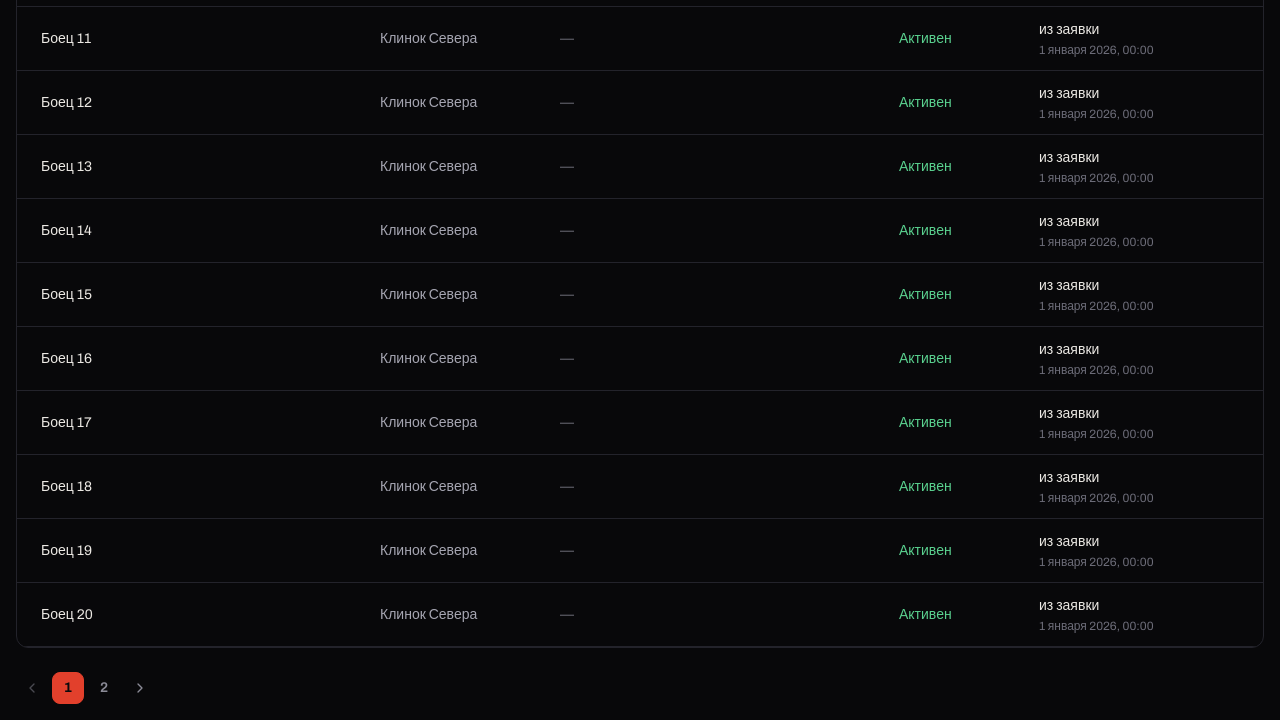
it: FightersScreen › resets pagination to page 1 when a filter changes, re-requesting the server (AC-17)
(page scrolled)
Click the button "2": [104, 688] box x1=88 y1=672 x2=120 y2=704
(page scrolled)
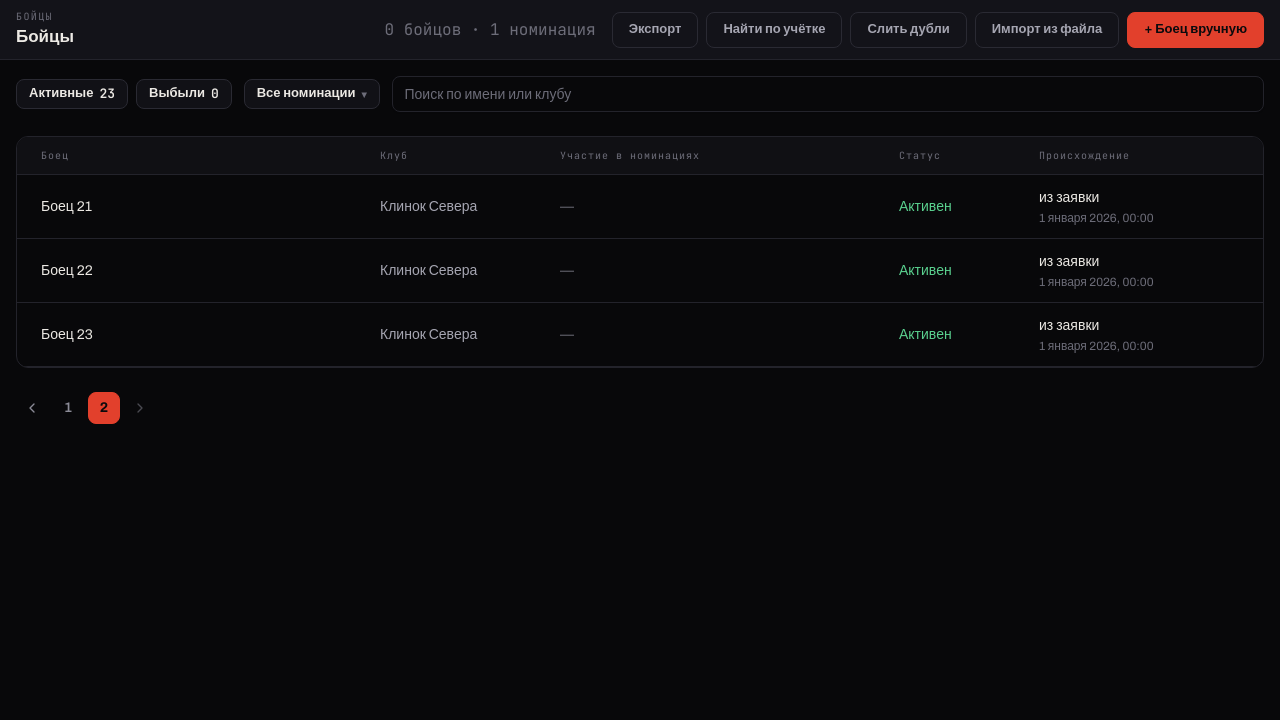
Click the button "Активные 23": [72, 94] box x1=16 y1=79 x2=128 y2=109
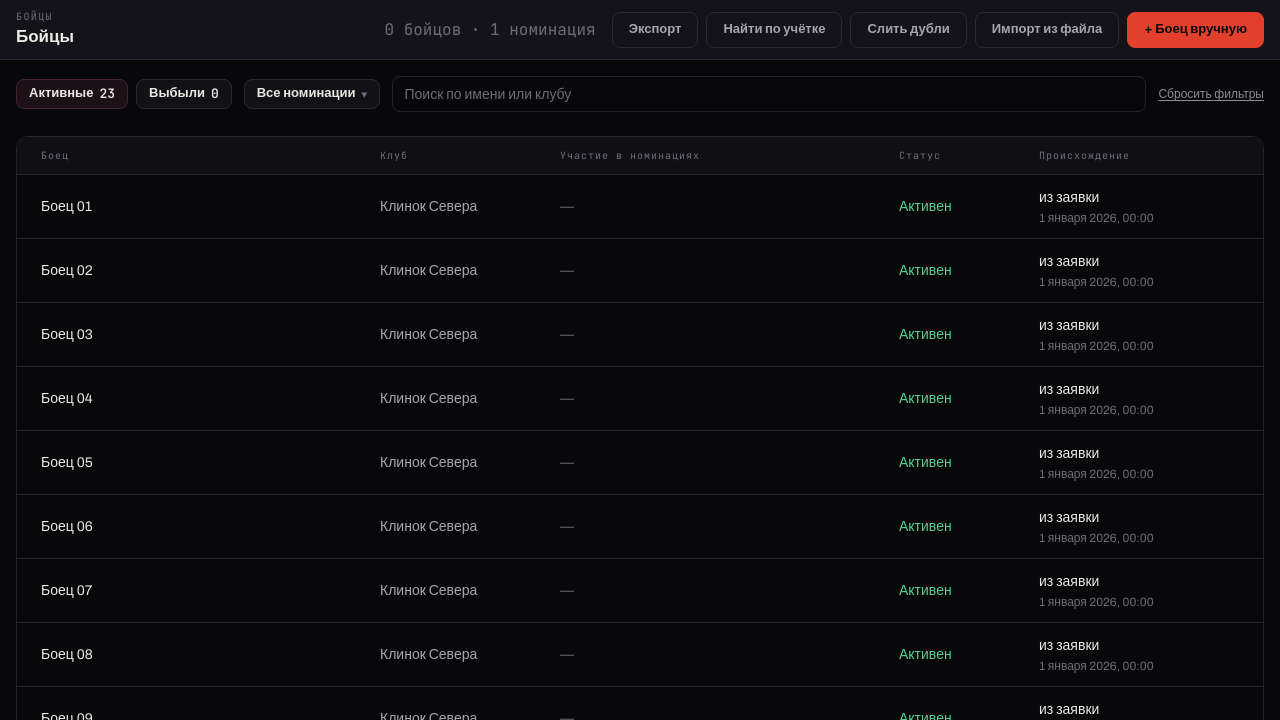
Expected: the text "Боец 01" is shown, x1=41 y1=199 x2=92 y2=214
